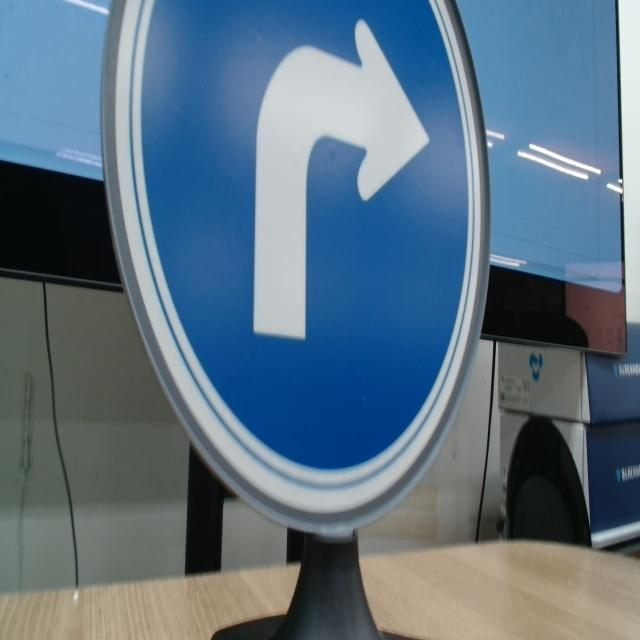right_dierection: (94, 5, 493, 538)
